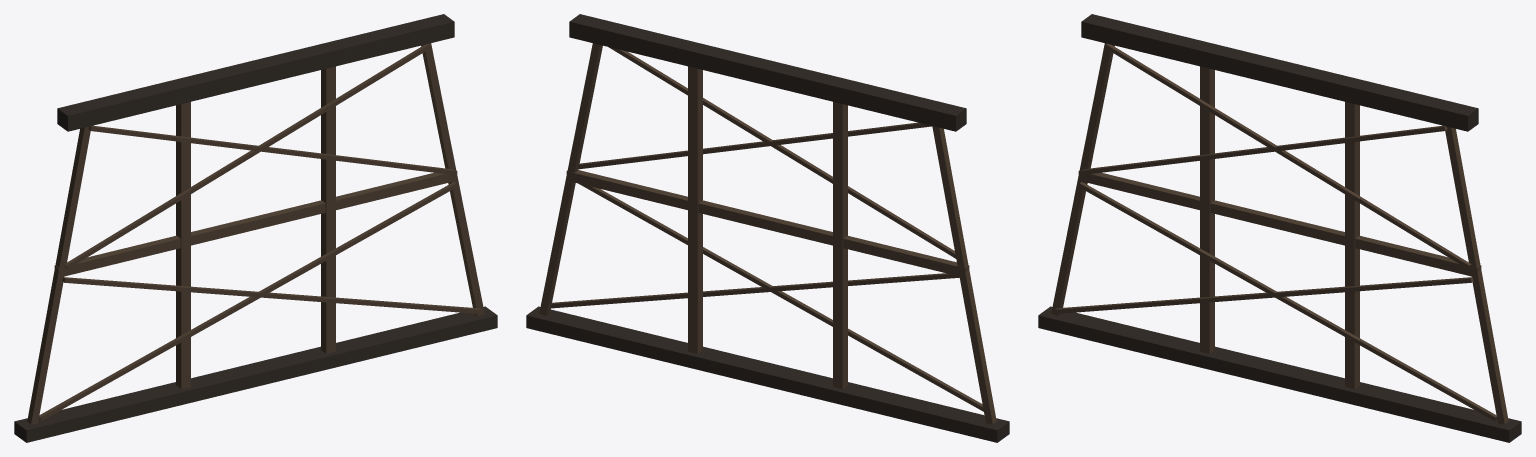
The model's file is trestle-bent.glb.
3 views of the same model, side by side, from view 1: azimuth 30°, elevation 25°; view 2: azimuth 150°, elevation 25°; view 3: azimuth 330°, elevation 25° (orthographic).
Visible parts, largest first — view 1: trestle_bent_body; view 2: trestle_bent_body; view 3: trestle_bent_body.
Boxes of the visible parts, left/top/right/bottom form: trestle_bent_body: left=14, top=14, right=497, bottom=442; trestle_bent_body: left=526, top=14, right=1009, bottom=442; trestle_bent_body: left=1038, top=14, right=1521, bottom=442.
Size of the model in its own units: 15.6 by 10 by 0.7.
